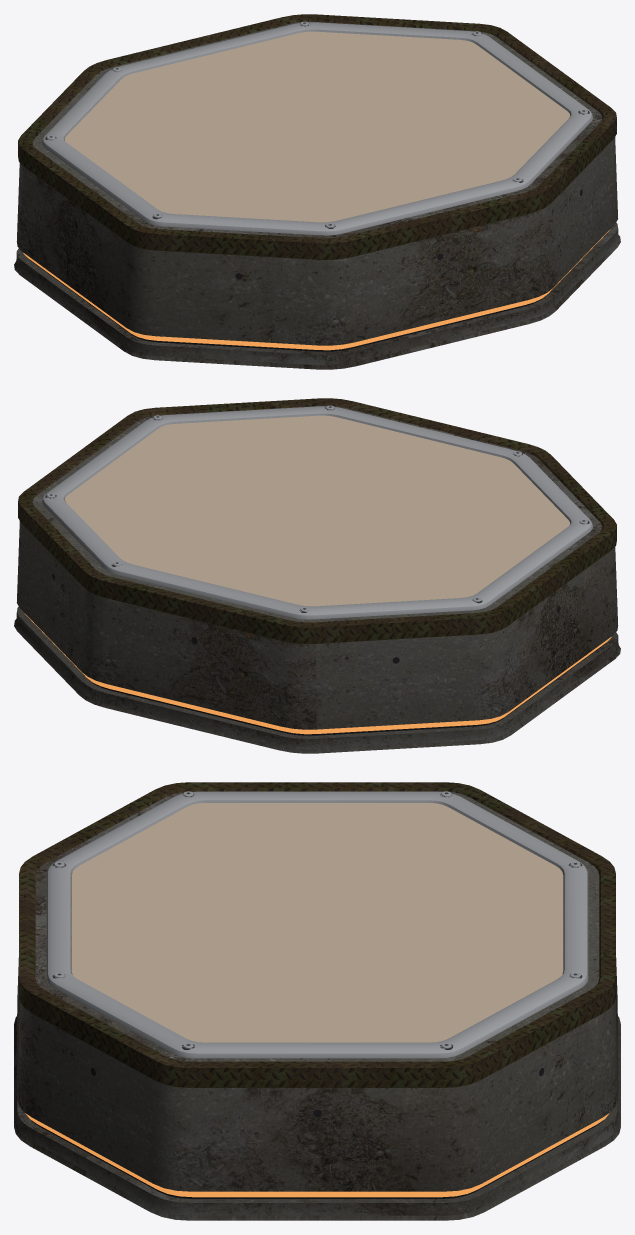
The model's file is pad_kit.glb.
3 views of the same model, one above another, from view 1: azimuth 30°, elevation 25°; view 2: azimuth 150°, elevation 25°; view 3: azimuth 270°, elevation 25° (orthographic). The views are drawn at different scales.
Visible parts, largest first — view 1: STREET_BASE, PAD_DECK, STREET_EDGE, PAD_BEZEL, STREET_LED; view 2: STREET_BASE, PAD_DECK, STREET_EDGE, PAD_BEZEL, STREET_LED; view 3: PAD_DECK, STREET_BASE, STREET_EDGE, PAD_BEZEL, STREET_LED.
Part boxes in pixels (x1=…): STREET_BASE: x1=14, y1=21, x2=620, y2=369; PAD_DECK: x1=65, y1=31, x2=569, y2=222; STREET_EDGE: x1=18, y1=14, x2=616, y2=259; PAD_BEZEL: x1=42, y1=22, x2=592, y2=235; STREET_LED: x1=23, y1=230, x2=609, y2=350; STREET_BASE: x1=14, y1=405, x2=620, y2=753; PAD_DECK: x1=65, y1=415, x2=569, y2=606; STREET_EDGE: x1=18, y1=398, x2=616, y2=643; PAD_BEZEL: x1=42, y1=406, x2=592, y2=619; STREET_LED: x1=25, y1=614, x2=611, y2=734; PAD_DECK: x1=71, y1=803, x2=563, y2=1042; STREET_BASE: x1=14, y1=791, x2=620, y2=1220; STREET_EDGE: x1=19, y1=782, x2=615, y2=1087; PAD_BEZEL: x1=46, y1=791, x2=588, y2=1058; STREET_LED: x1=25, y1=1113, x2=609, y2=1197.
Bounding box in the file's own units: 1.9 × 0.4782 × 1.68.
8 materials, 3 textured.
